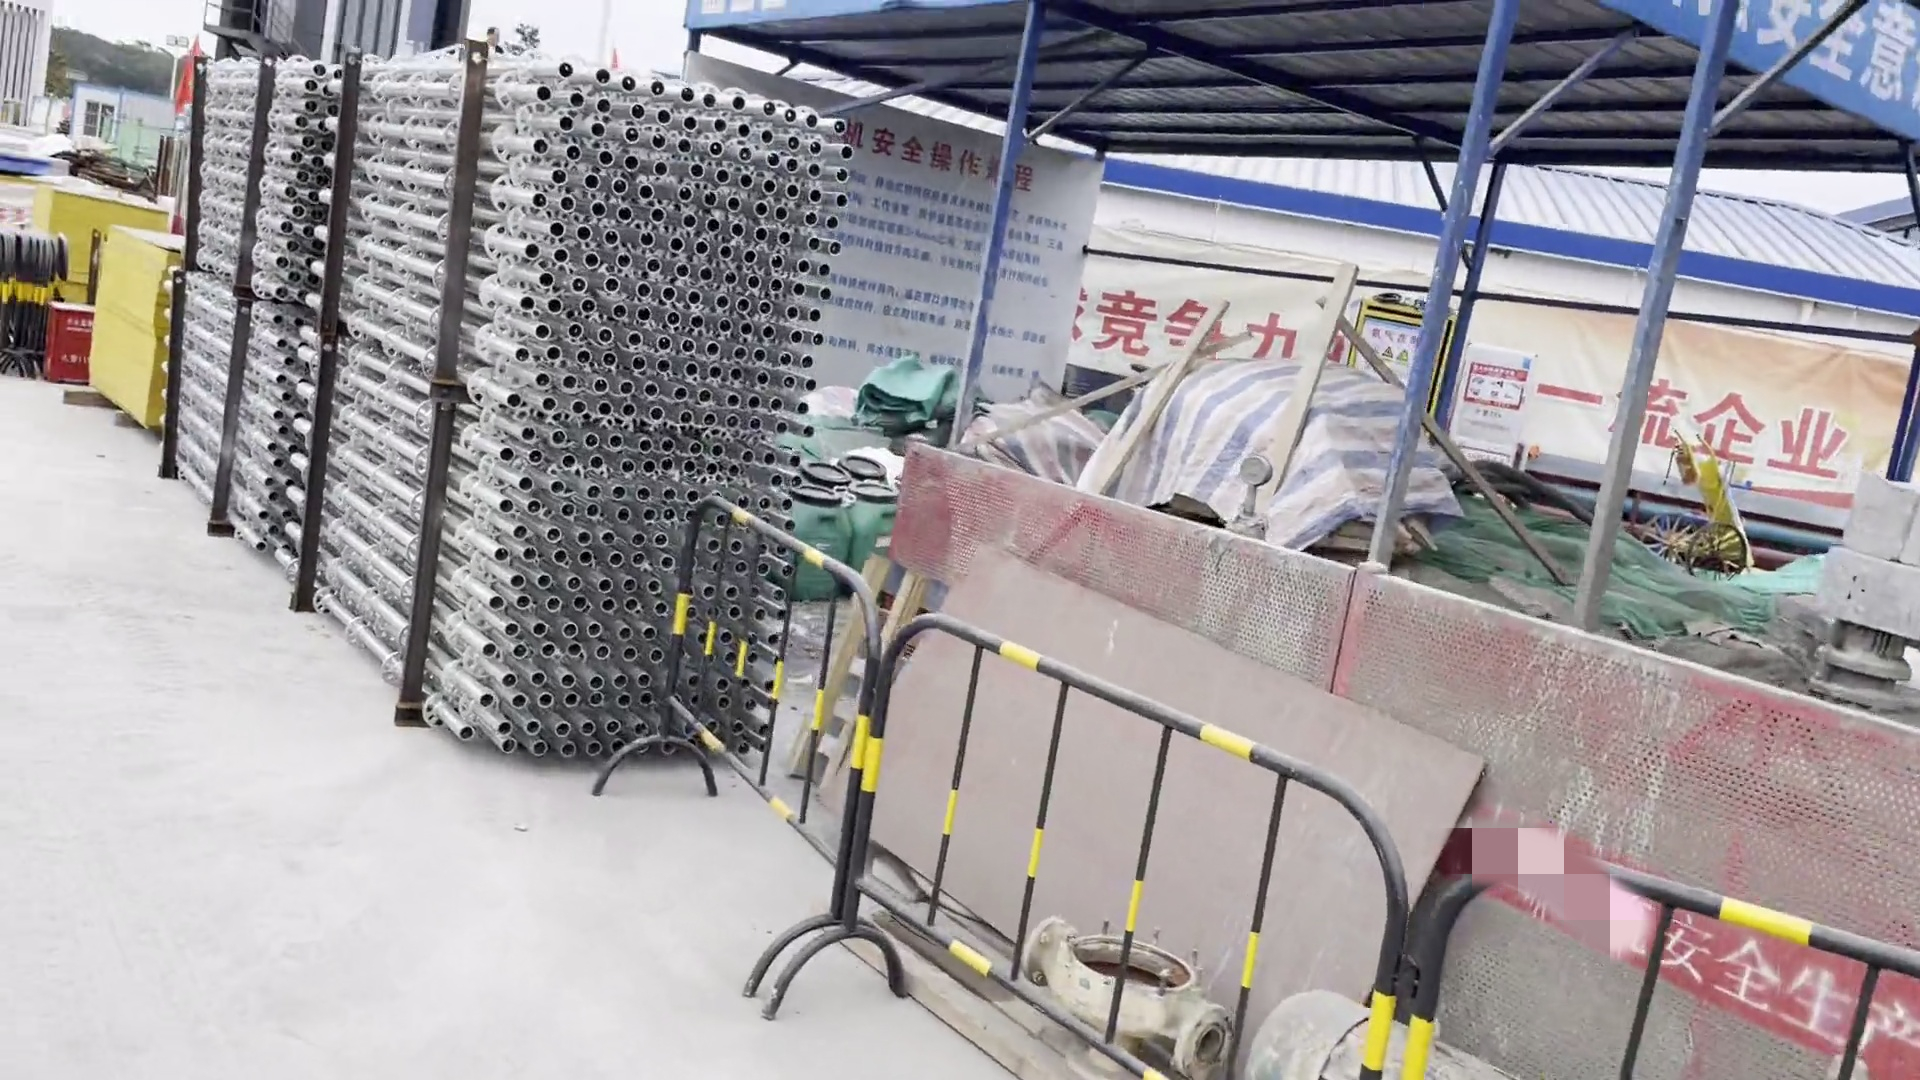scaffold: (323, 15, 853, 764), (123, 13, 347, 537)
slogan: (1658, 915, 1920, 1069)
